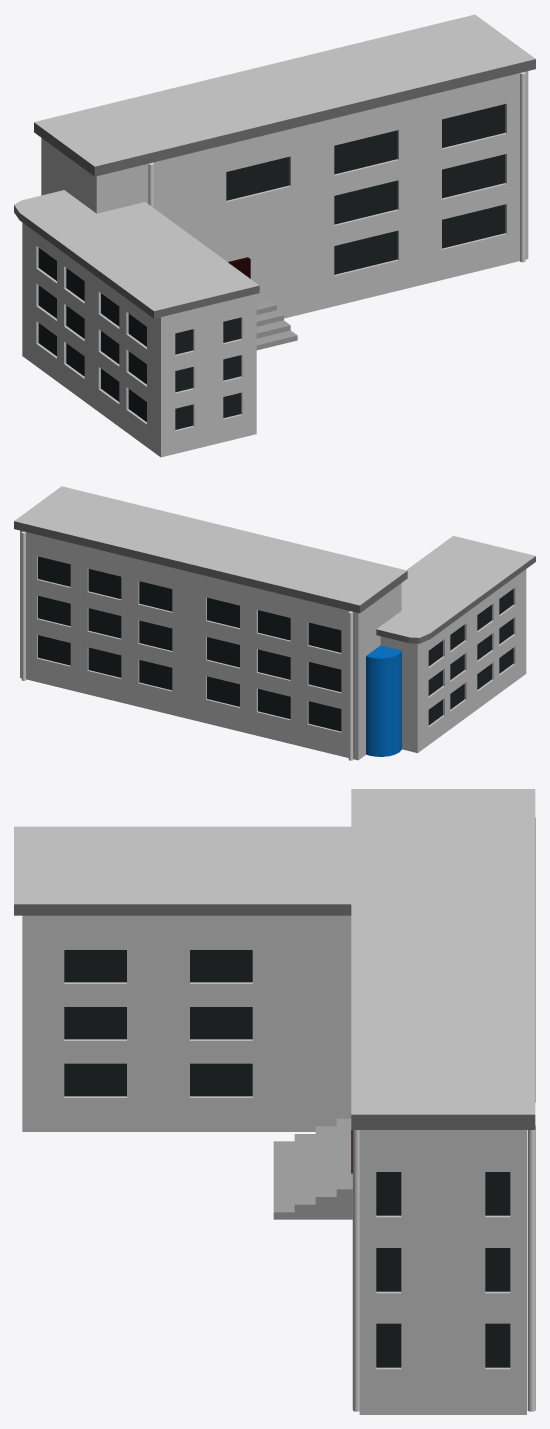
File: bjfz.fbx
3 renders of one model, top to bottom at view 1: azimuth 30°, elevation 25°; view 2: azimuth 150°, elevation 25°; view 3: azimuth 270°, elevation 25°, orthographic. The views are drawn at different scales.
Parts seen in each view (by area): view 1: pCube2, pCube1, pCube3, pCylinder3; view 2: pCube2, pCube1, pCylinder1, pCylinder5, pCylinder4; view 3: pCube2, pCube1, pCube3, pCylinder4, pCylinder3.
Boxes of the visible parts, x1,y1,x2,y2 form: pCube2: (34,14,535,318); pCube1: (14,190,259,457); pCube3: (256,300,297,350); pCylinder3: (520,72,525,262); pCube2: (14,486,407,760); pCube1: (376,536,535,752); pCylinder1: (366,645,401,756); pCylinder5: (348,611,352,760); pCylinder4: (21,531,25,680); pCube2: (351,789,535,1414); pCube1: (14,826,351,1131); pCube3: (273,1118,352,1219); pCylinder4: (527,1125,535,1411); pCylinder3: (352,1130,359,1411).
Size of the model in its own units: 20.58 by 8 by 12.47.
